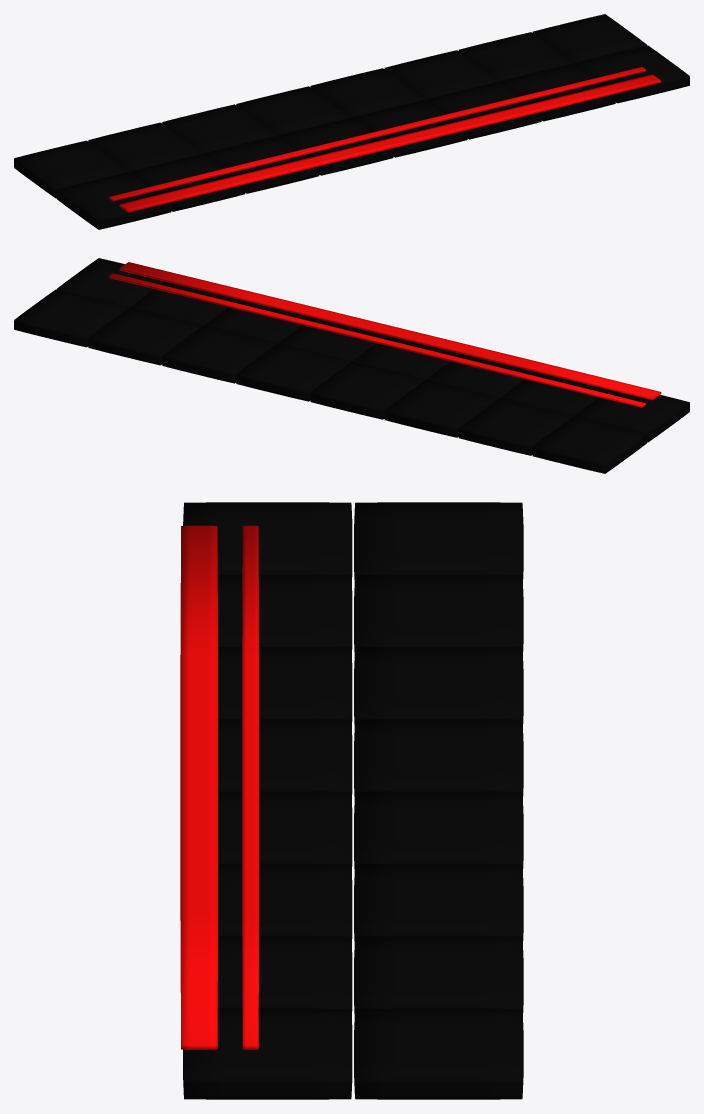
File: ENV_Entrance_PartySoft_CheckerLanding_8x2m.fbx
3 renders of one model, top to bottom at view 1: azimuth 30°, elevation 25°; view 2: azimuth 150°, elevation 25°; view 3: azimuth 270°, elevation 25°, orthographic. The views are drawn at different scales.
Visible parts, largest first — view 1: ENV_Entrance_PartySoft_CheckerLanding_8x2m; view 2: ENV_Entrance_PartySoft_CheckerLanding_8x2m; view 3: ENV_Entrance_PartySoft_CheckerLanding_8x2m.
Boxes of the visible parts, x1,y1,x2,y2 form: ENV_Entrance_PartySoft_CheckerLanding_8x2m: (14,14,689,229); ENV_Entrance_PartySoft_CheckerLanding_8x2m: (14,258,689,473); ENV_Entrance_PartySoft_CheckerLanding_8x2m: (180,502,523,1099).
Size of the model in its own units: 799 by 17.25 by 200.
